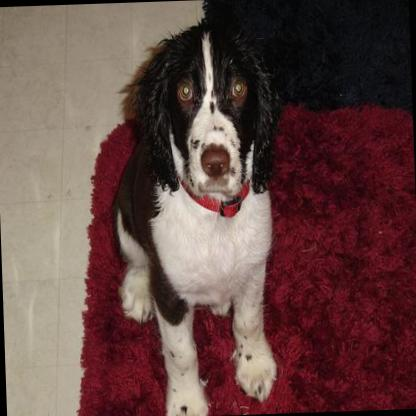English_springer: (103, 16, 292, 416)
